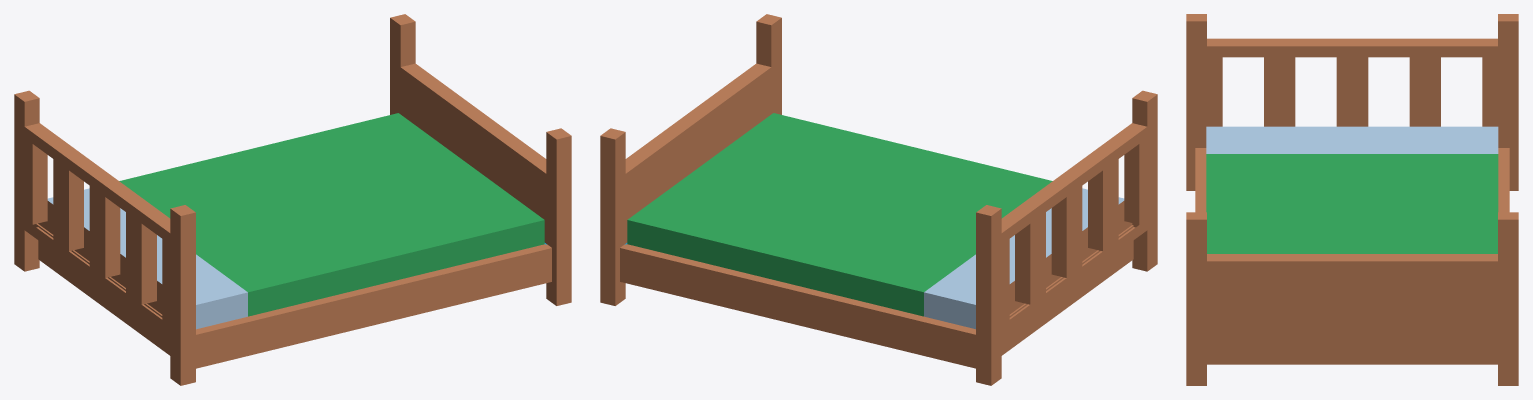
Rendered from bed.fbx.
3 renders of one model, left to right at view 1: azimuth 30°, elevation 25°; view 2: azimuth 150°, elevation 25°; view 3: azimuth 270°, elevation 25°, orthographic.
Parts seen in each view (by area): view 1: Cube.035, Cube.032, Cube.031; view 2: Cube.035, Cube.032, Cube.031; view 3: Cube.031, Cube.035, Cube.032.
Boxes of the visible parts, left/top/right/bottom form: Cube.035: left=33, top=113, right=551, bottom=368; Cube.032: left=14, top=90, right=195, bottom=385; Cube.031: left=390, top=14, right=571, bottom=305; Cube.035: left=620, top=113, right=1133, bottom=368; Cube.032: left=976, top=90, right=1157, bottom=385; Cube.031: left=600, top=14, right=781, bottom=305; Cube.031: left=1186, top=212, right=1518, bottom=385; Cube.035: left=1195, top=126, right=1509, bottom=253; Cube.032: left=1186, top=14, right=1518, bottom=190.
Size of the model in its own units: 154 by 68.39 by 114.
